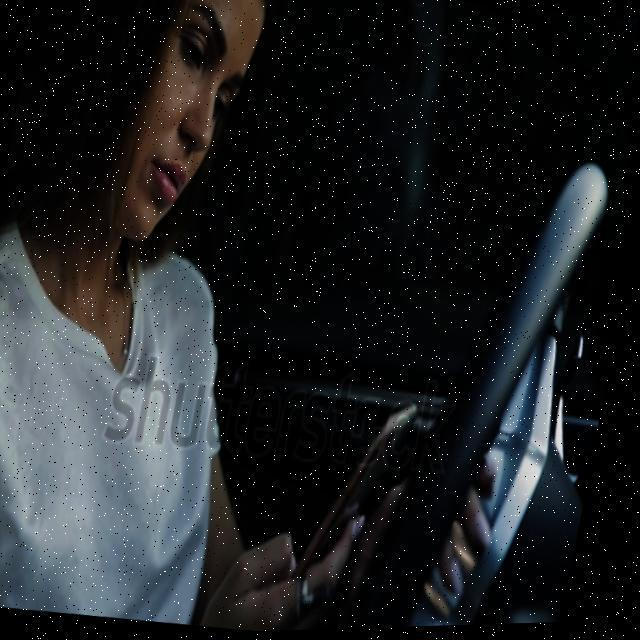PhoneCall: (298, 388, 424, 594)
